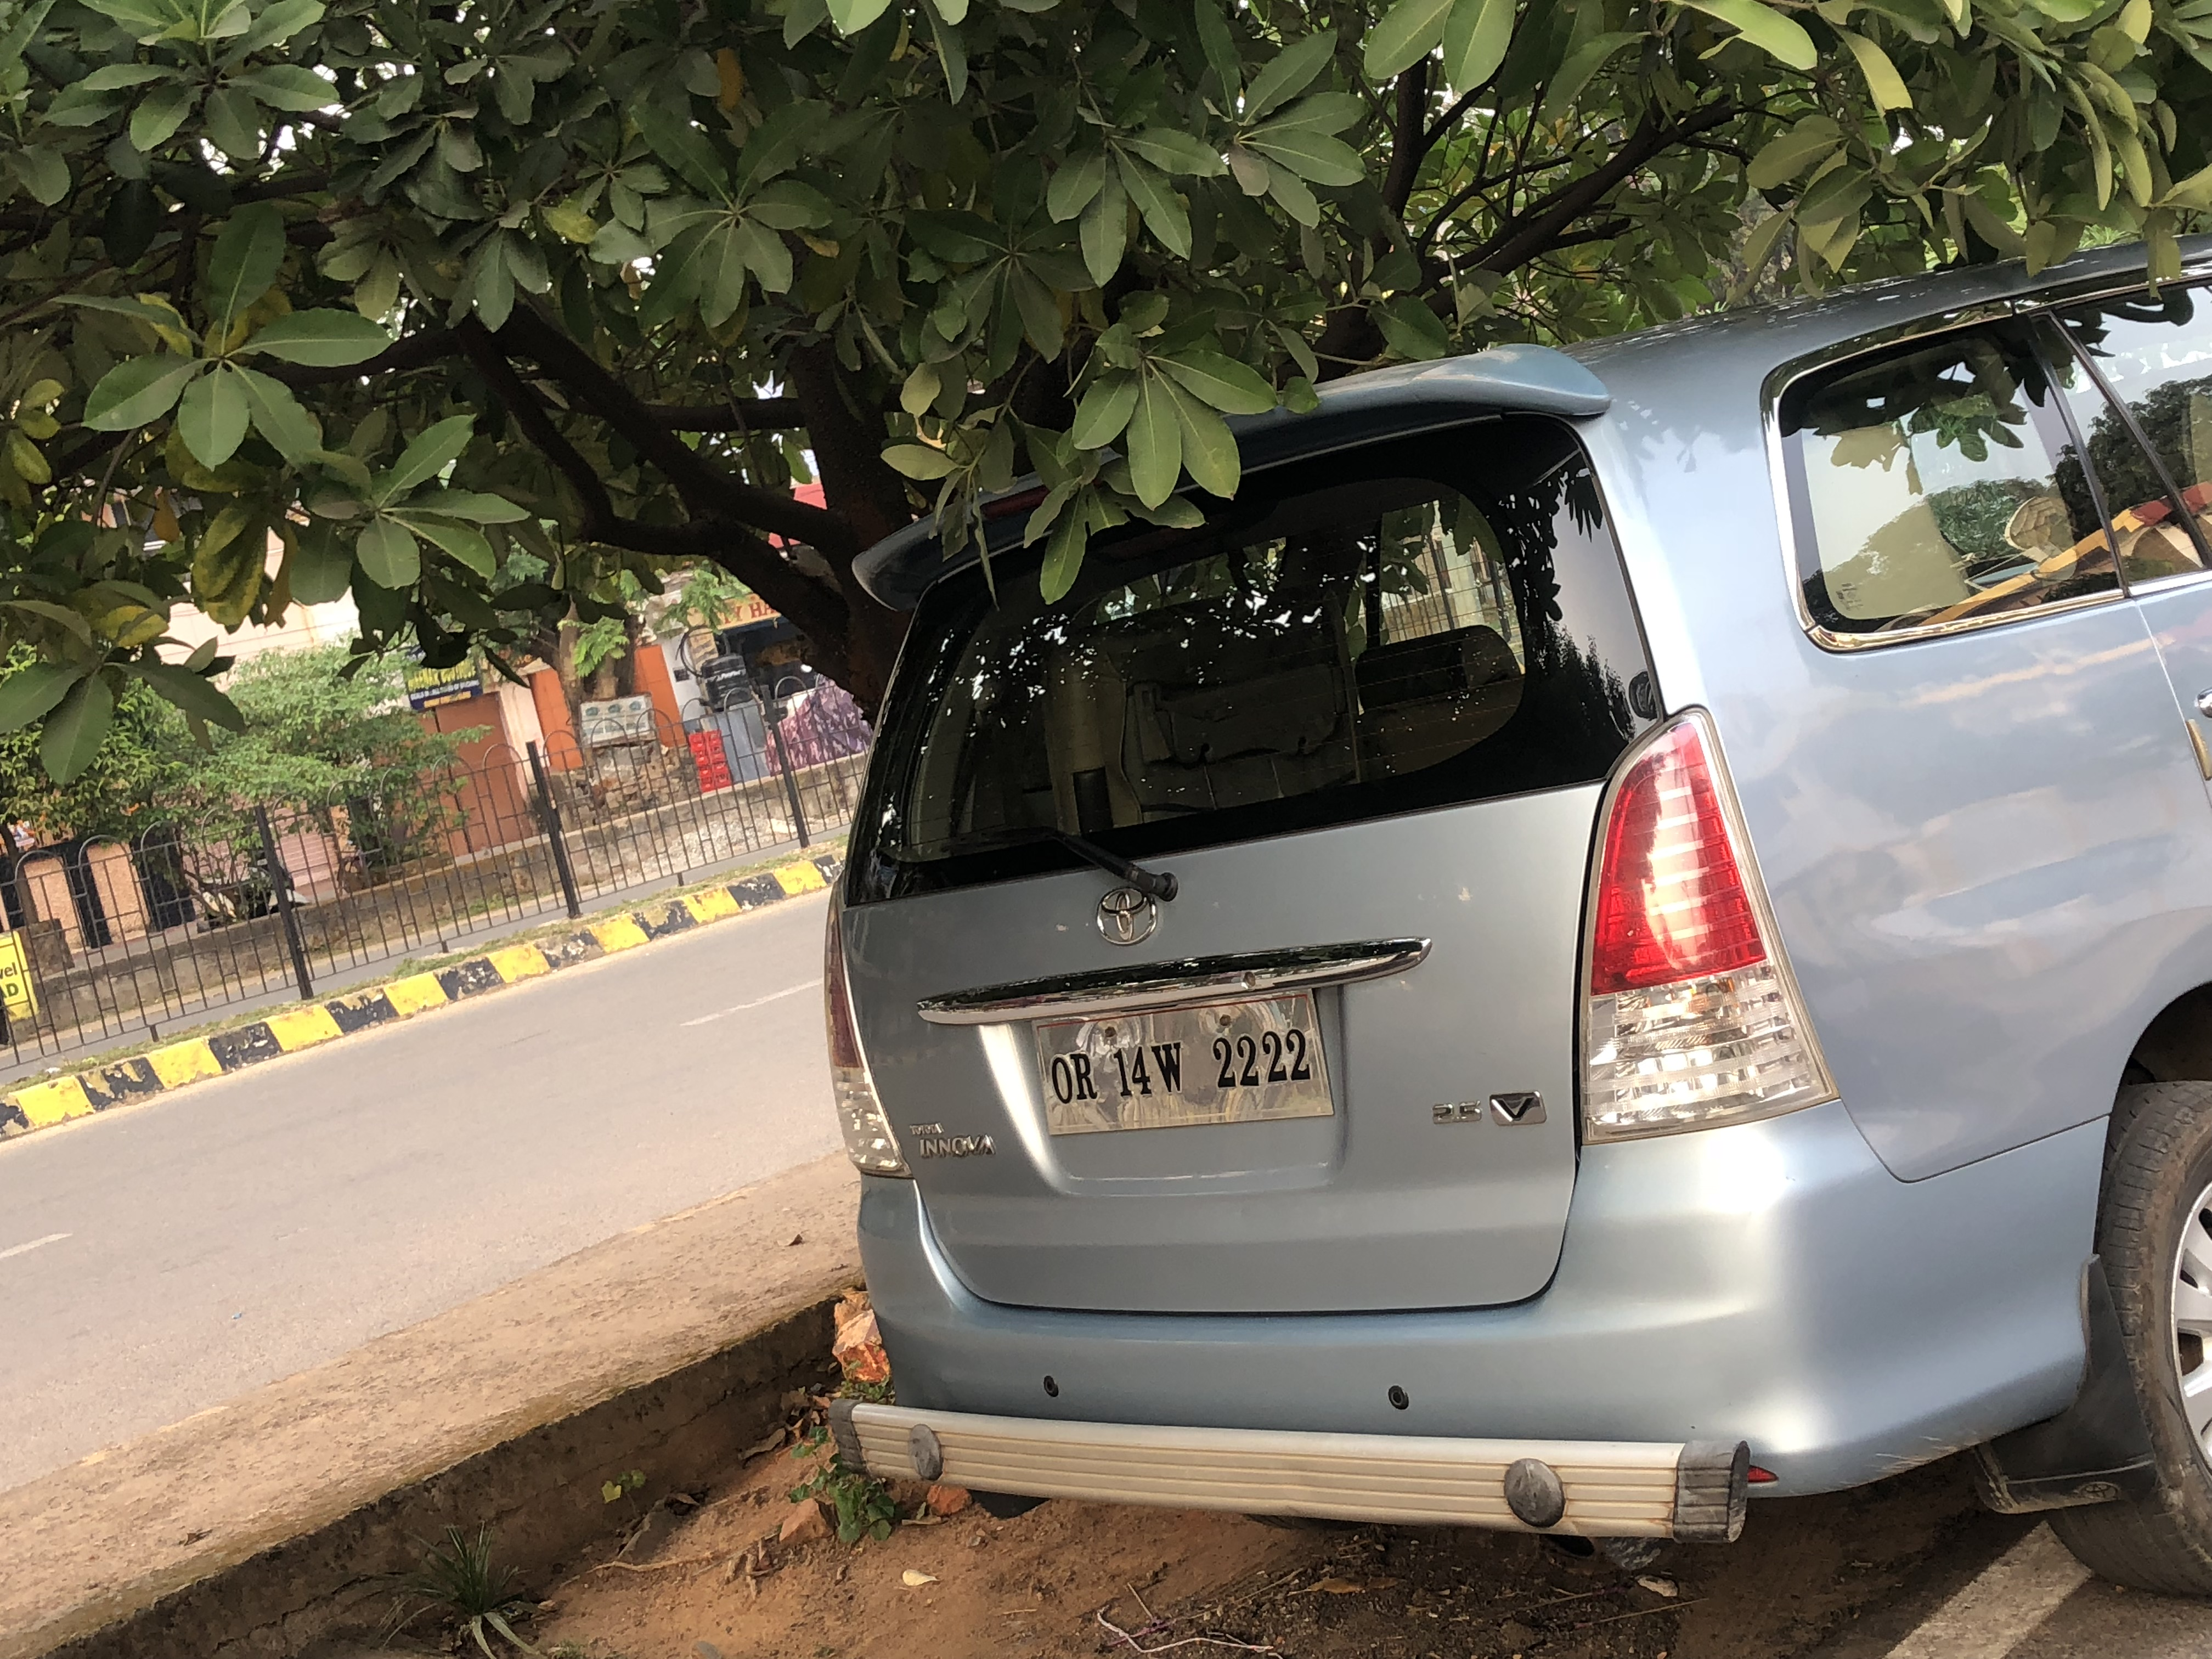licenseplate: (1016, 988, 1350, 1125)
